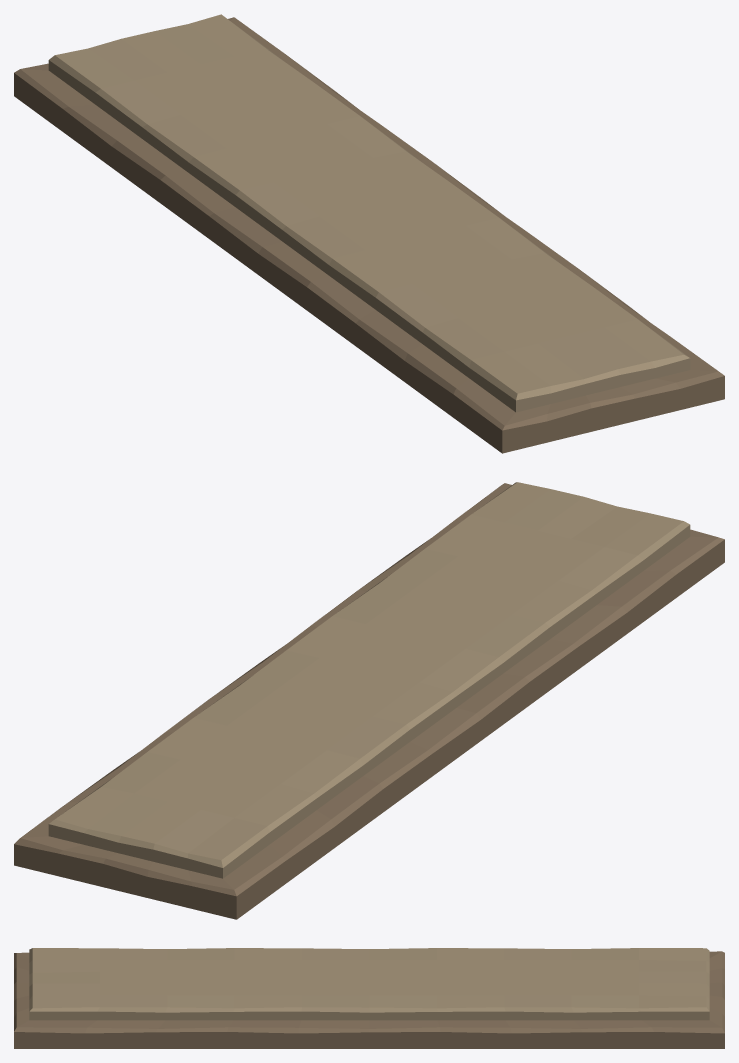
Rendered from hypodromeMiddleStone 1.fbx.
3 renders of one model, top to bottom at view 1: azimuth 30°, elevation 25°; view 2: azimuth 150°, elevation 25°; view 3: azimuth 270°, elevation 25°, orthographic. The views are drawn at different scales.
Parts seen in each view (by area): view 1: Cube.004; view 2: Cube.004; view 3: Cube.004.
Boxes of the visible parts, x1,y1,x2,y2 form: Cube.004: (14,14,724,453); Cube.004: (14,482,724,919); Cube.004: (14,948,724,1048).
Bounding box in the file's own units: 5694 × 281 × 1500.
